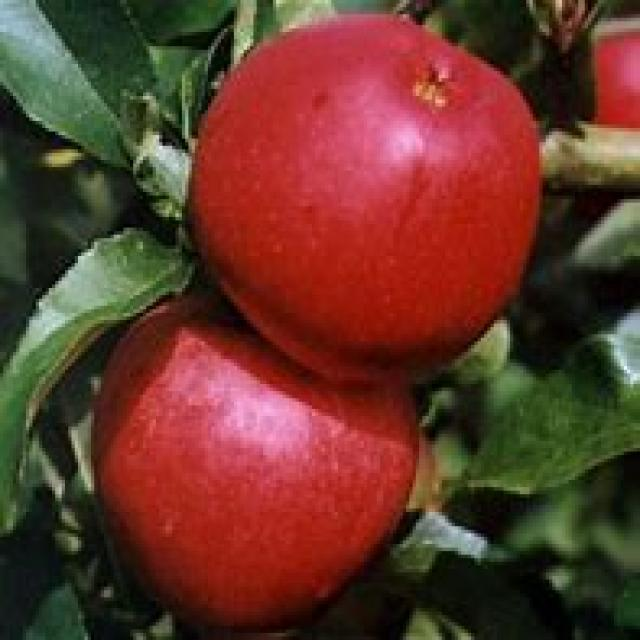apple: (188, 11, 544, 389), (96, 301, 420, 640)
